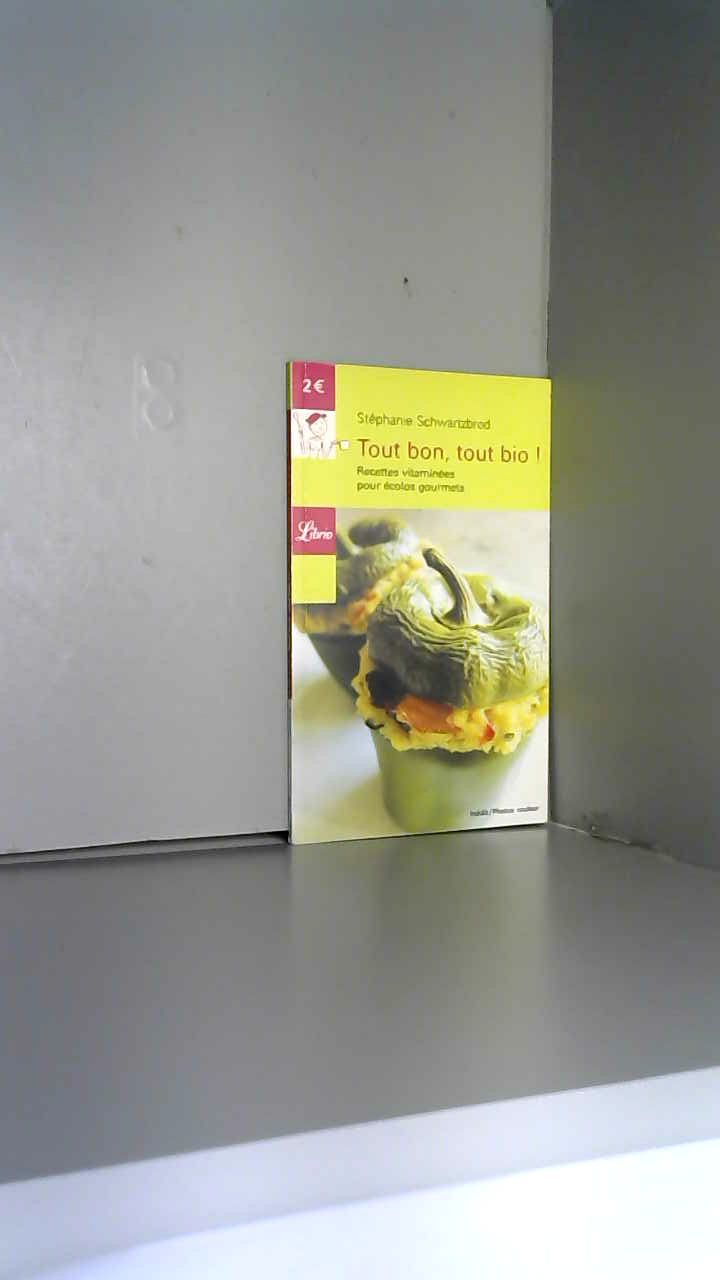book: (268, 344, 565, 861)
